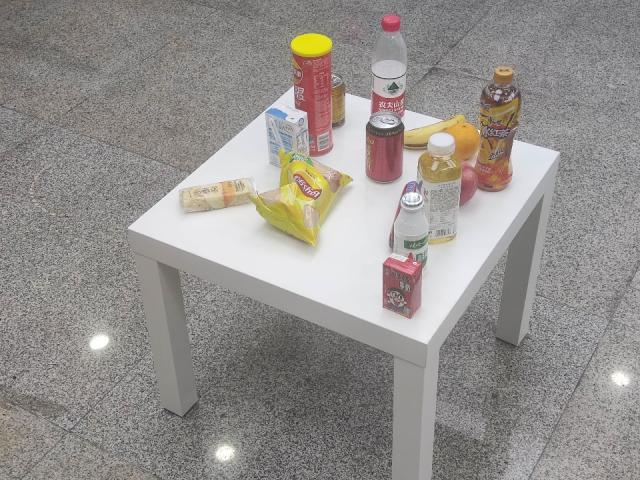Canned_drinks: (367, 111, 404, 183), (328, 69, 346, 129)
bottle: (356, 11, 415, 132)
cylinder: (285, 31, 343, 159)
drink_box: (261, 98, 314, 167), (377, 251, 424, 320)
